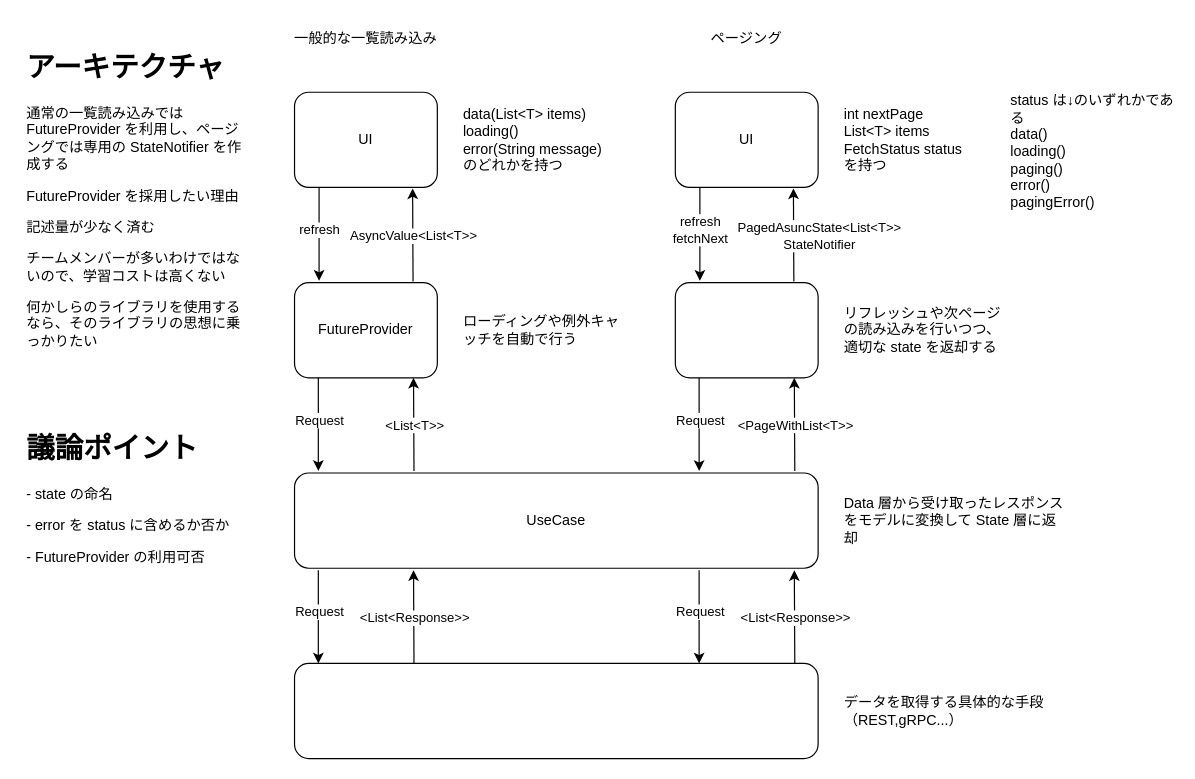
The diagram is 1195 pixels wide and 779 high, and some of its shapes have lost their labels. Each missing label, with the centre of its shape:
Data: (555,710)
PagedAsync StateNotifier: (746,329)
